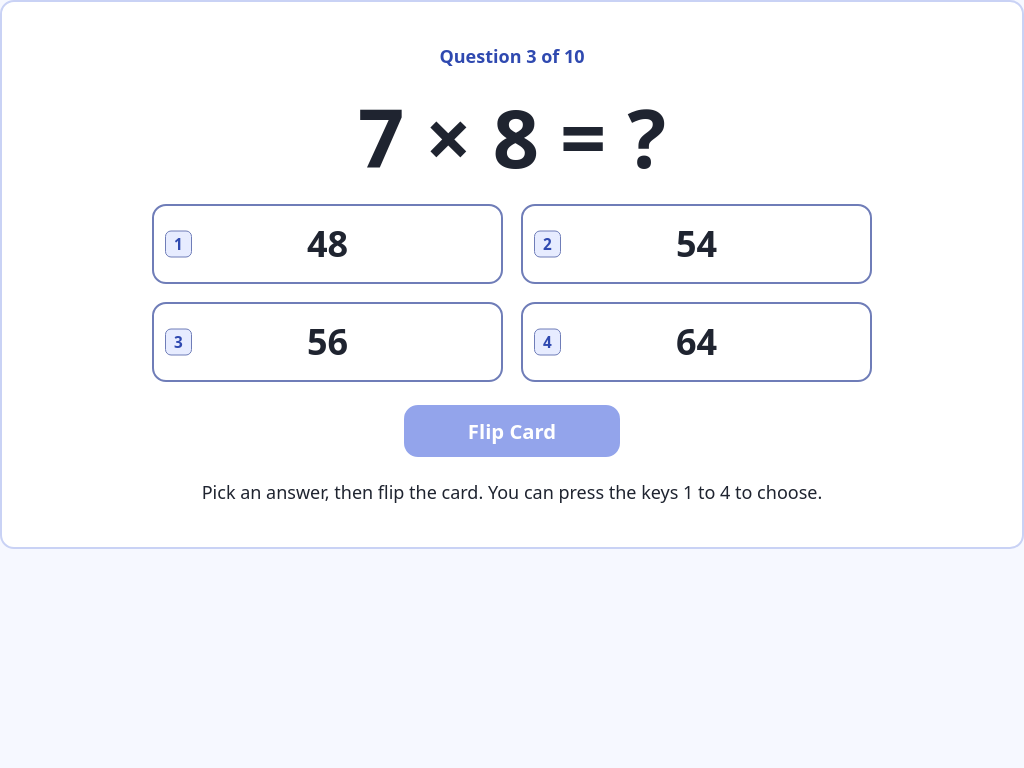
Test case: QuestionCard flipping › works without animation
The image size is (1024, 768).
Click the button "3 56" at (328, 342), box [152,302,503,382]
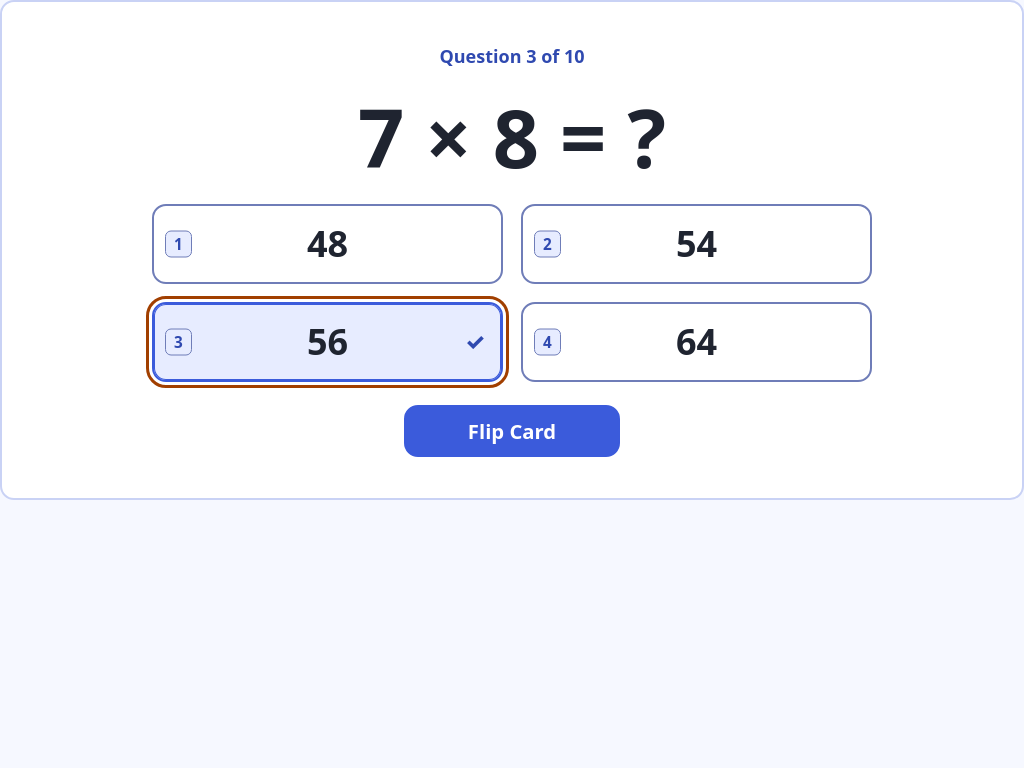
Click the button "Flip Card" at (512, 431), box [404,404,620,457]
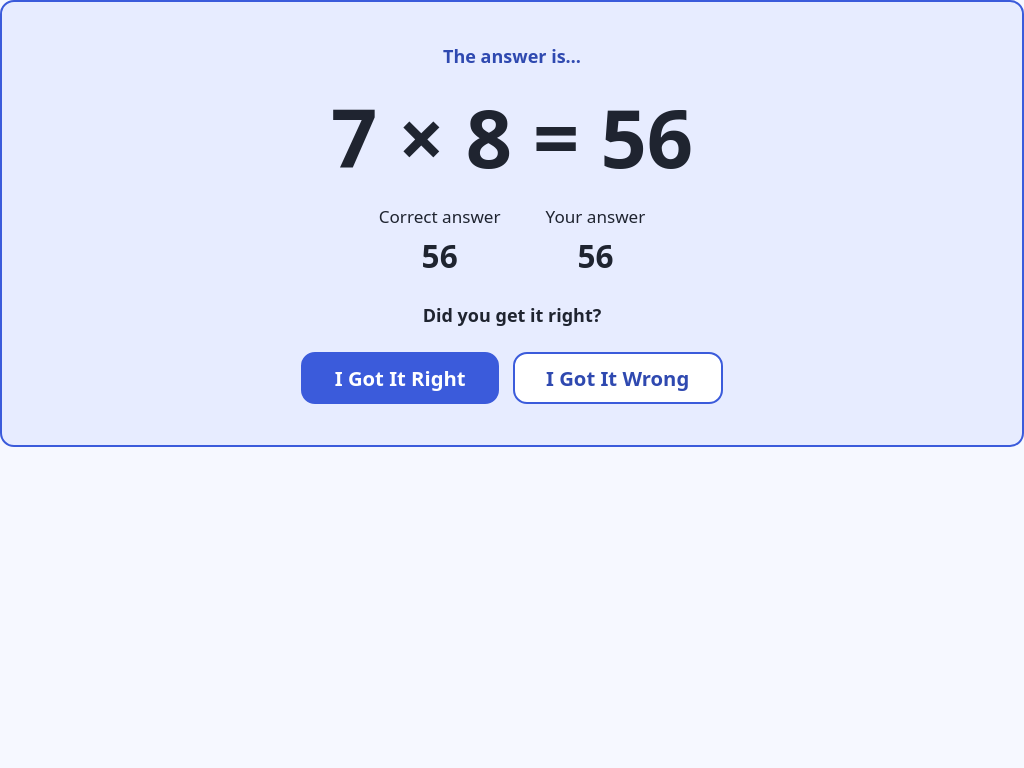
Now the heading "7 × 8 = 56" is shown, box [331,92,693,182]
